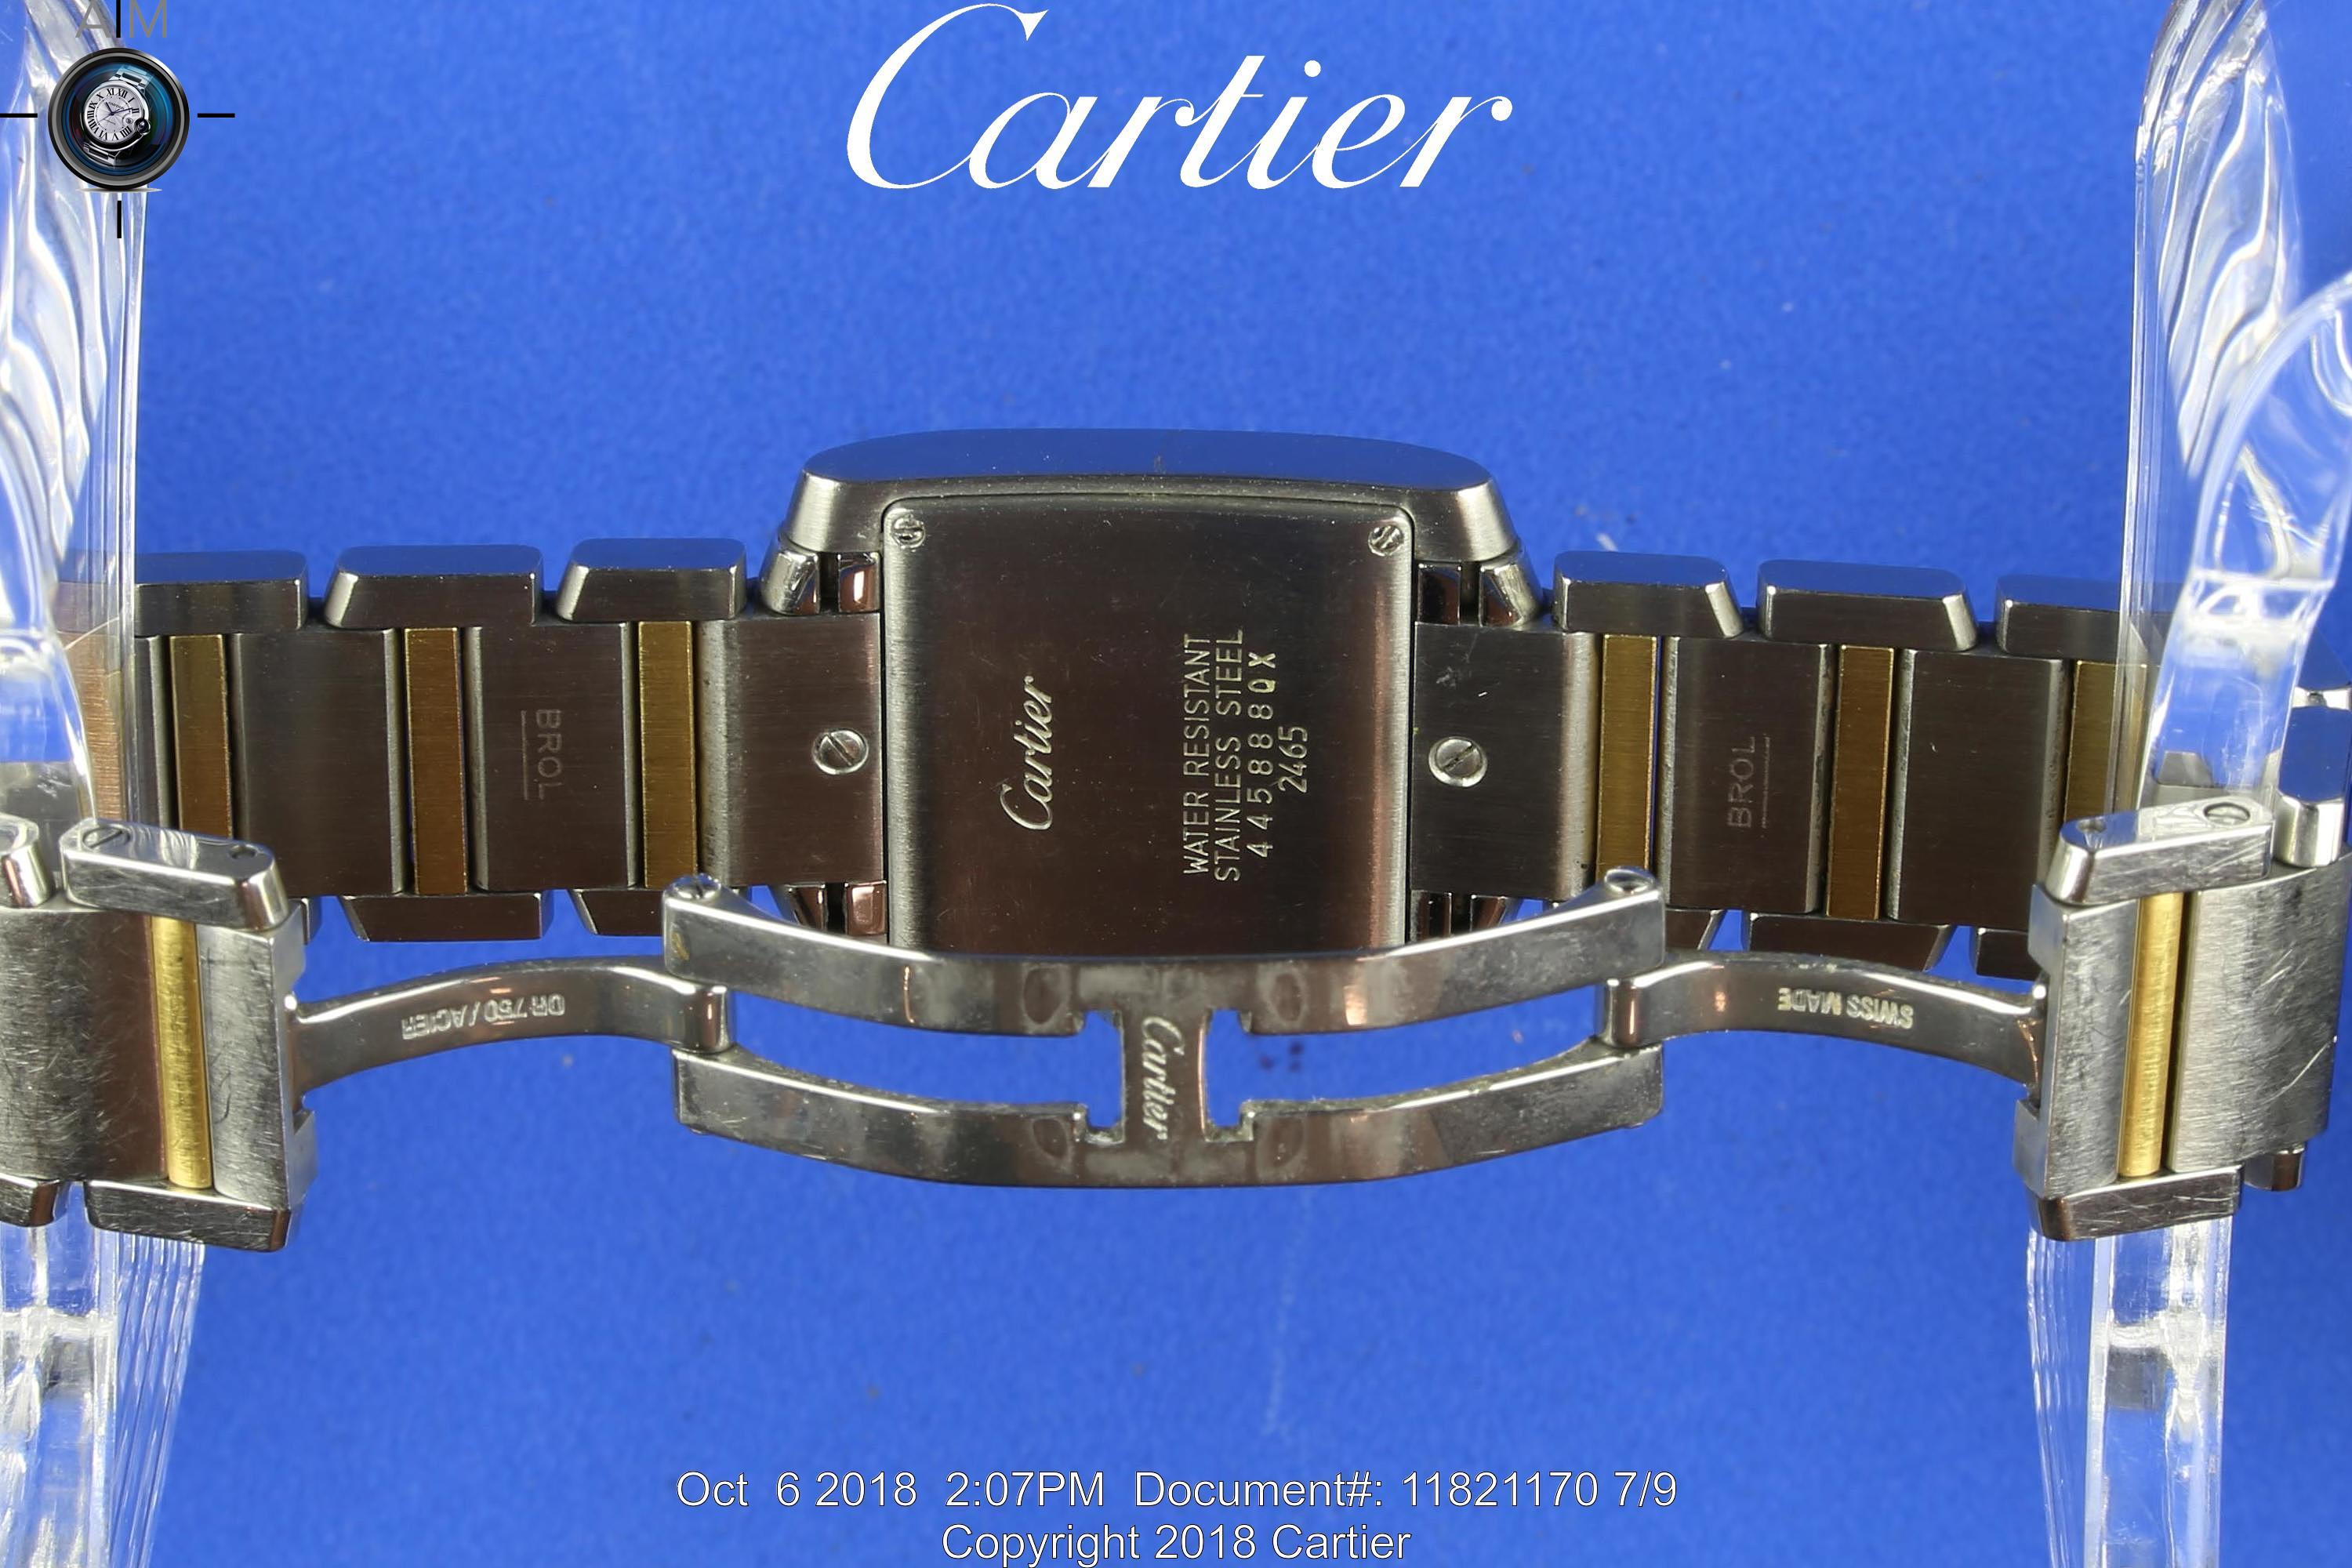watchback: (889, 499, 1409, 982)
